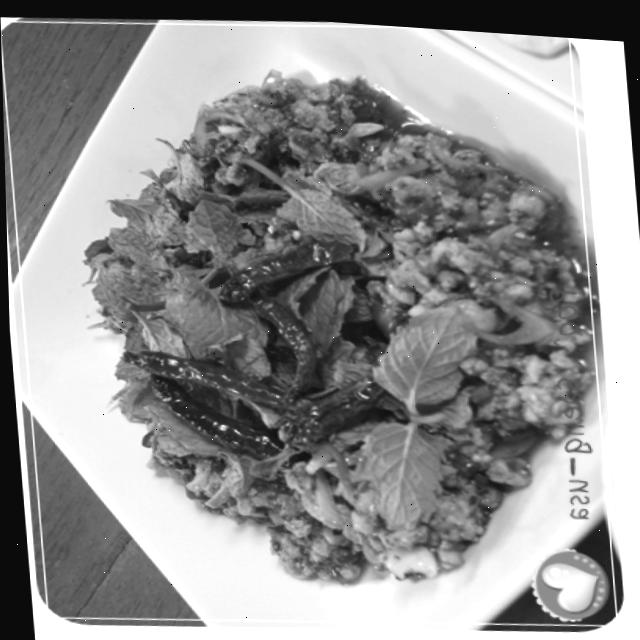鸡肉料理 含炸鸡: (46, 21, 562, 617)
